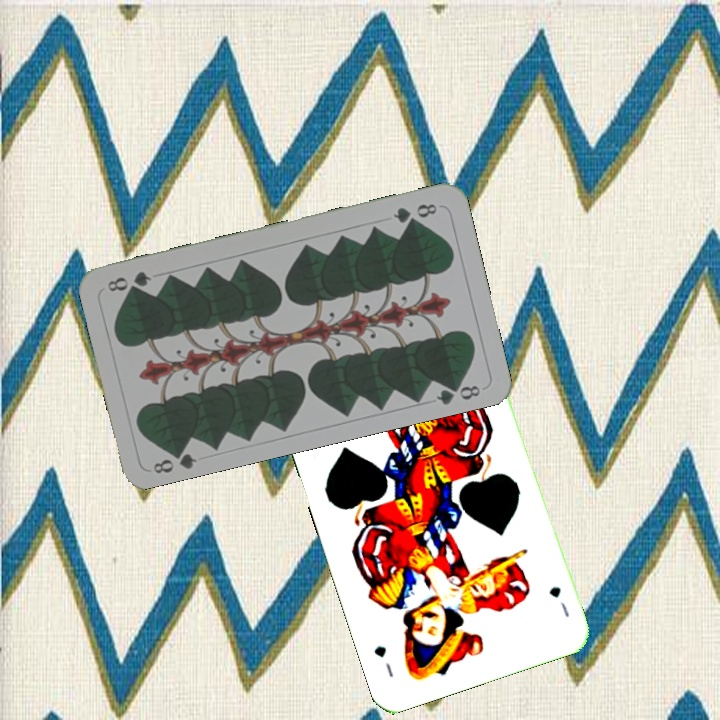G8: (149, 443, 200, 477), (389, 199, 440, 226)
GU: (545, 582, 572, 620)
